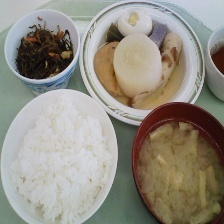rice: (9, 99, 114, 224)
